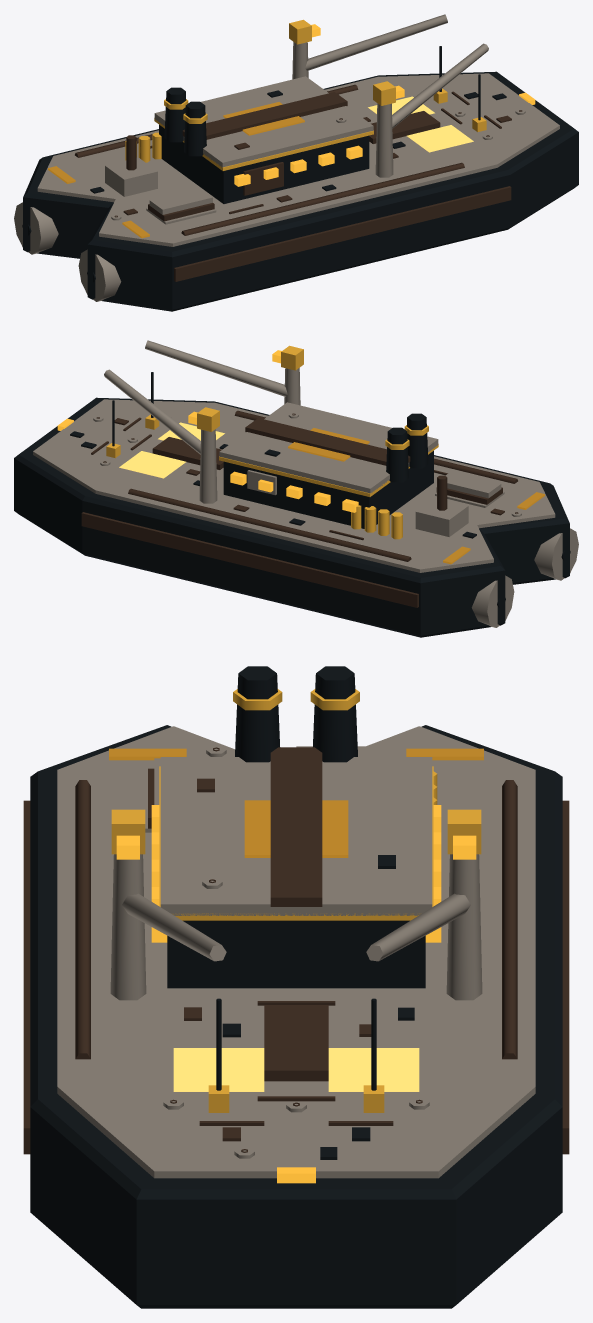
Rendered from tender-bathyarch.glb.
3 renders of one model, top to bottom at view 1: azimuth 30°, elevation 25°; view 2: azimuth 150°, elevation 25°; view 3: azimuth 270°, elevation 25°, orthographic. The views are drawn at different scales.
Parts seen in each view (by area): view 1: hull_lower, deck, workshop_roof, workshop, strake_s, workshop_ridge, pipe_run_s, derrick_boom_p, pump_house, prop_shroud_p, derrick_boom_s, derrick_mast_s (+14 smaller); view 2: hull_lower, deck, workshop_roof, workshop, strake_p, workshop_ridge, pipe_run_p, derrick_boom_s, pump_house, prop_shroud_s, derrick_boom_p, derrick_mast_p (+14 smaller); view 3: deck, hull_lower, workshop_roof, workshop, workshop_ridge, hull_plate_in_repair, pipe_run_s, pipe_run_p, derrick_mast_s, derrick_mast_p, weld_bay_s, weld_bay_p (+12 smaller).
Part boxes in pixels (<box>): hull_lower: <box>23,71,578,311</box>; deck: <box>37,73,559,246</box>; workshop_roof: <box>154,76,373,167</box>; workshop: <box>159,125,369,203</box>; strake_s: <box>174,186,511,281</box>; workshop_ridge: <box>182,92,347,139</box>; pipe_run_s: <box>181,162,464,235</box>; derrick_boom_p: <box>305,14,447,70</box>; pump_house: <box>105,157,157,196</box>; prop_shroud_p: <box>14,202,58,254</box>; derrick_boom_s: <box>392,43,488,128</box>; derrick_mast_s: <box>375,103,393,177</box>; hull_lower: <box>14,397,569,637</box>; deck: <box>33,399,555,572</box>; workshop_roof: <box>219,402,438,493</box>; workshop: <box>223,451,433,528</box>; strake_p: <box>81,512,418,607</box>; workshop_ridge: <box>245,418,410,465</box>; pipe_run_p: <box>128,488,411,561</box>; derrick_boom_s: <box>145,340,287,396</box>; pump_house: <box>415,497,468,536</box>; prop_shroud_s: <box>534,528,578,580</box>; derrick_boom_p: <box>104,369,200,454</box>; derrick_mast_p: <box>199,429,217,503</box>; deck: <box>57,726,535,1178</box>; hull_lower: <box>30,725,562,1308</box>; workshop_roof: <box>160,757,432,915</box>; workshop: <box>167,920,425,988</box>; workshop_ridge: <box>270,747,322,906</box>; hull_plate_in_repair: <box>264,1005,328,1081</box>; pipe_run_s: <box>75,780,90,1059</box>; pipe_run_p: <box>502,780,517,1059</box>; derrick_mast_s: <box>110,854,146,1000</box>; derrick_mast_p: <box>446,854,482,1000</box>; weld_bay_s: <box>173,1048,264,1091</box>; weld_bay_p: <box>328,1048,419,1091</box>.
Size of the model in its own units: 85 by 25.48 by 41.51.
